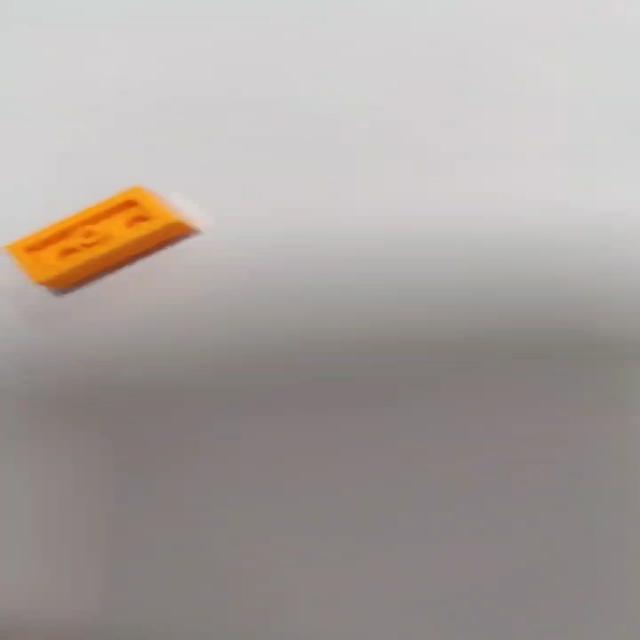C2x1x0: (9, 175, 200, 307)
